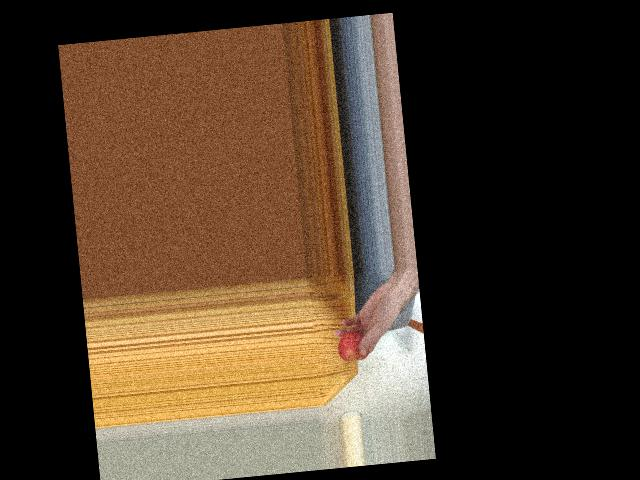apple: (337, 330, 370, 364)
